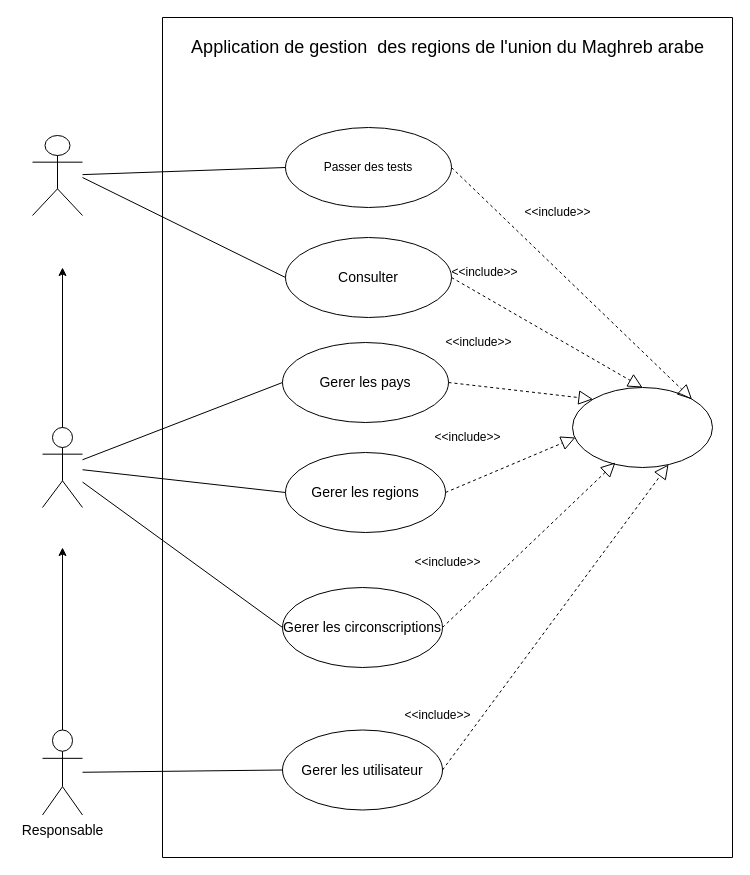
Image size: 750x875. Some labels were removed from this diagram. Here are the shapes that lost their labels. From the top down, the centre of each, then its label:
At [57,175]: "Utilisateur".
At [642,427]: "Se connecter".
At [62,467]: "Administrateur".
